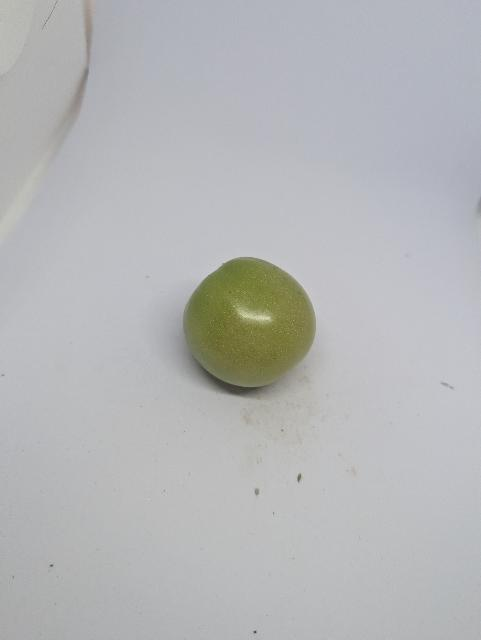green: (179, 254, 319, 391)
